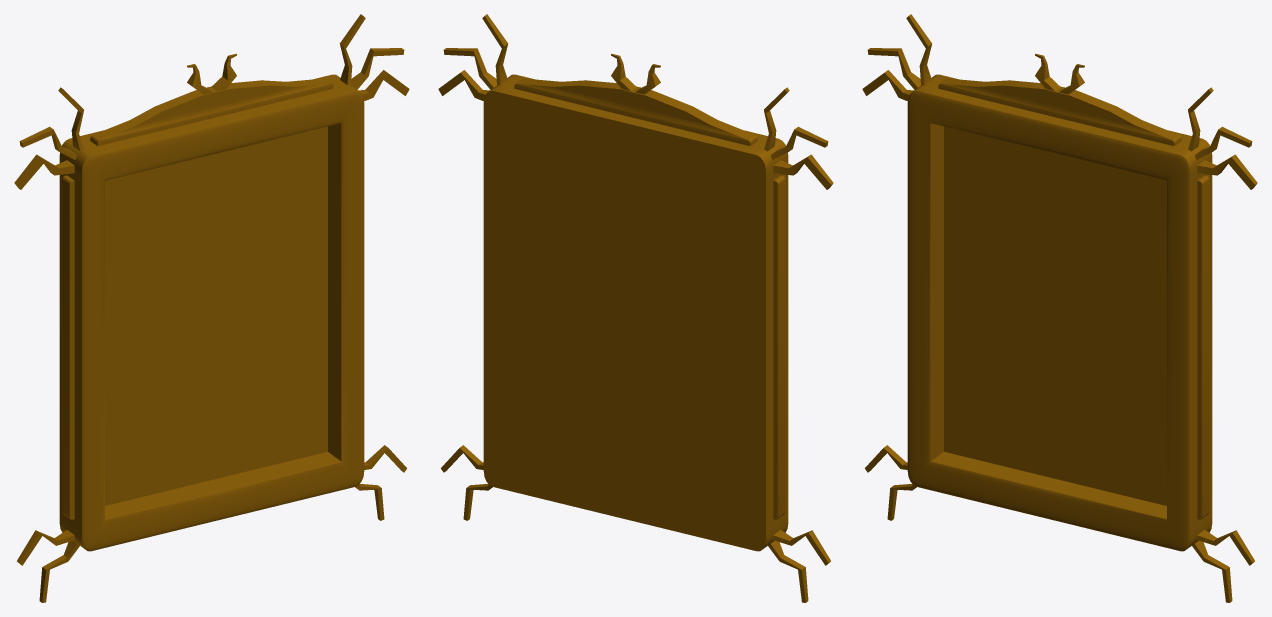
File: Painting1.fbx
3 views of the same model, side by side, from view 1: azimuth 30°, elevation 25°; view 2: azimuth 150°, elevation 25°; view 3: azimuth 330°, elevation 25° (orthographic).
Parts seen in each view (by area): view 1: Painting1; view 2: Painting1; view 3: Painting1.
Part boxes in pixels (box(x1,y1,x2,y2)): Painting1: box(14, 14, 409, 602); Painting1: box(438, 14, 833, 602); Painting1: box(862, 14, 1257, 602).
Size of the model in its own units: 0.9383 by 1.16 by 0.0954.
